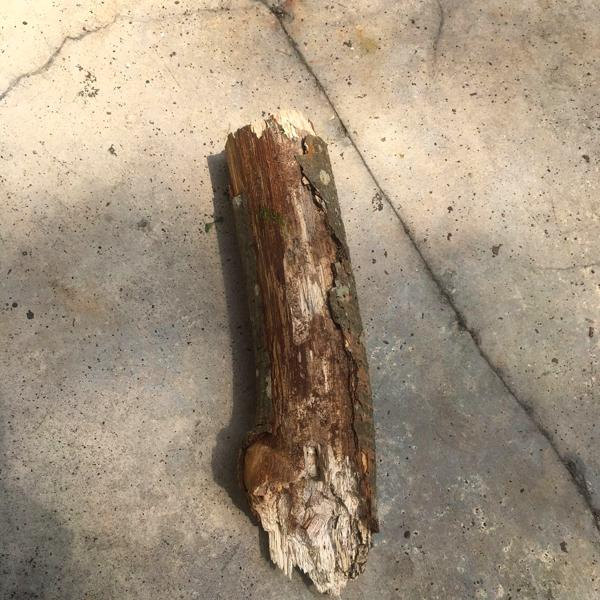Organik: (200, 98, 395, 600)
